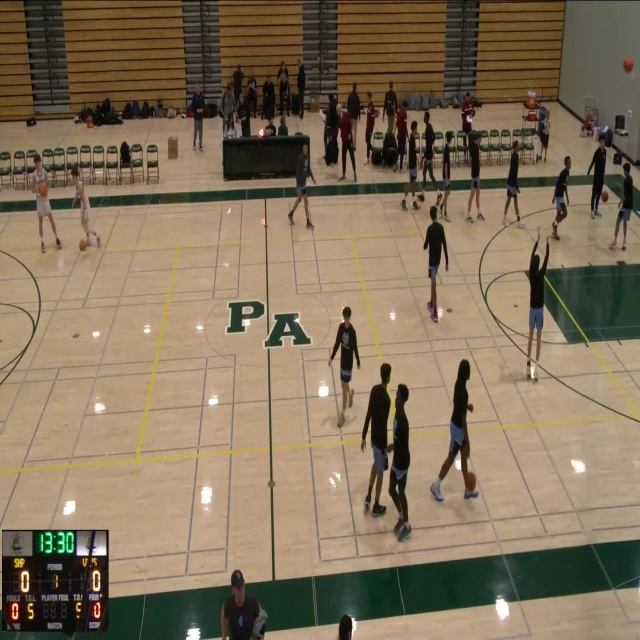Basketball: (465, 472, 476, 490), (623, 57, 633, 72), (39, 184, 48, 197), (601, 191, 608, 202), (79, 240, 86, 251)
